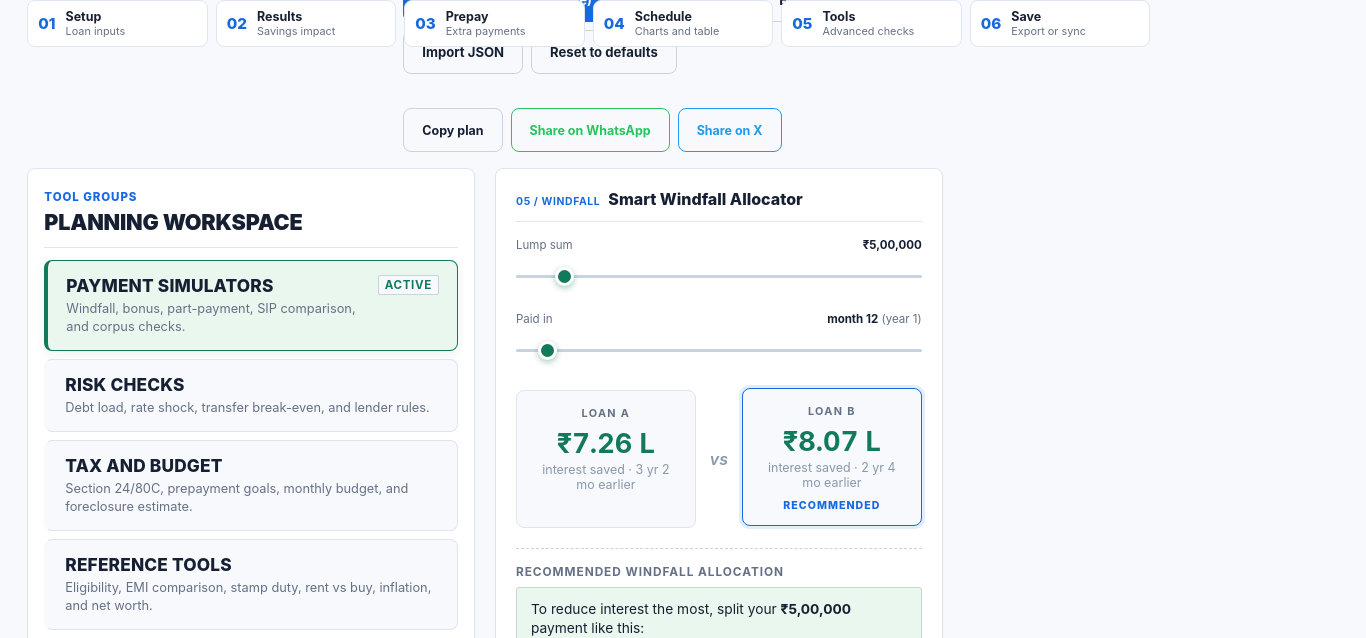
Scenario: App smoke › renders the HDFC rules panel
(page scrolled)
Click the text "Risk checks".
click(125, 385)  # box [65,374,185,395]
(page scrolled)
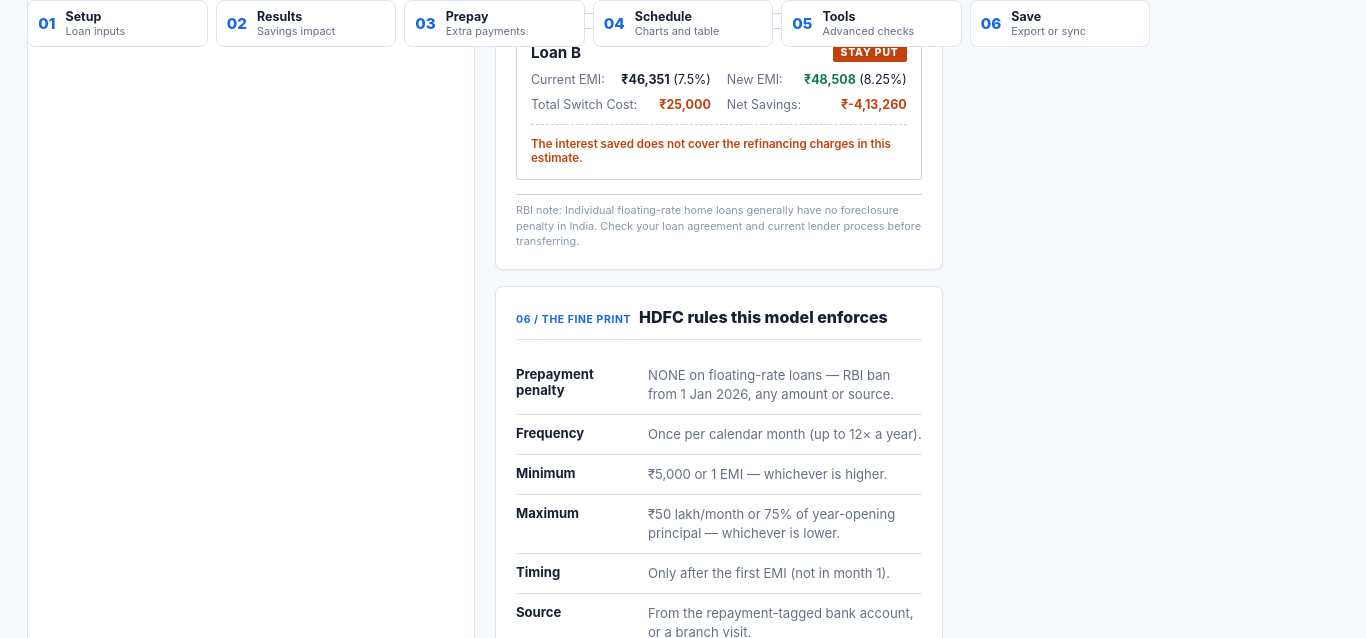
expect the text "Prepayment penalty" is shown: met, box [516,366,594,398]
